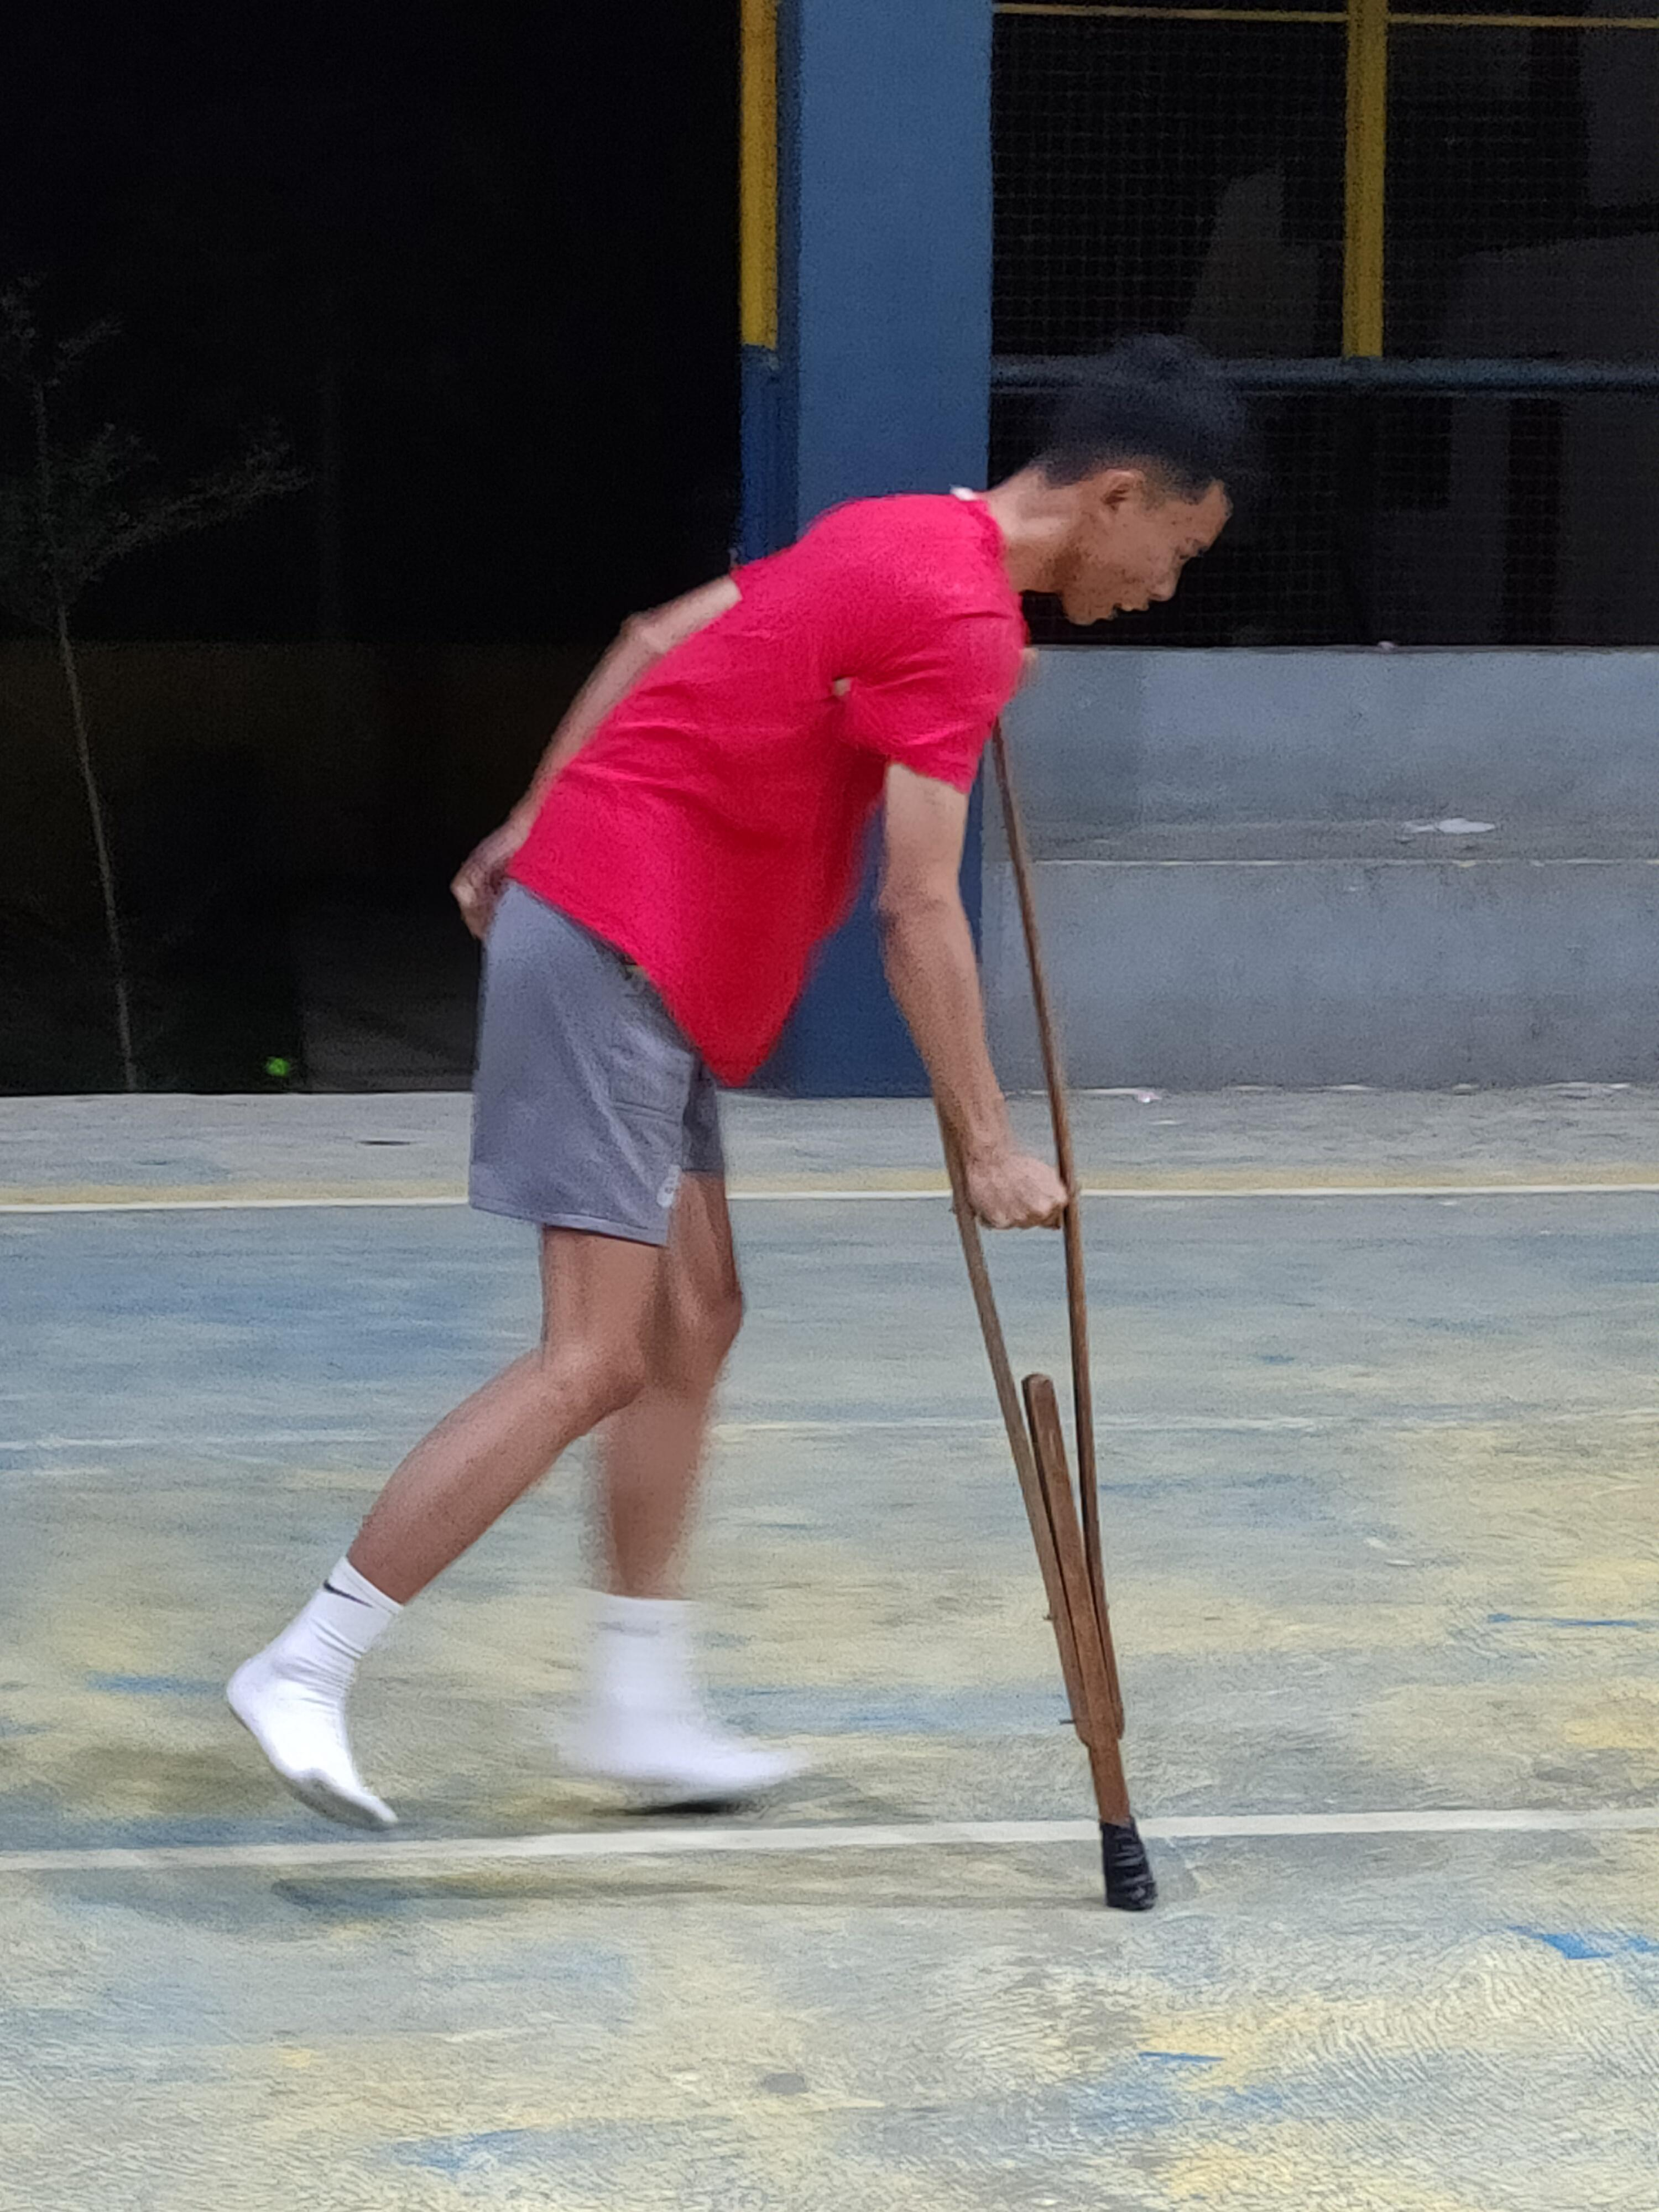crutches: (211, 317, 1265, 1925)
